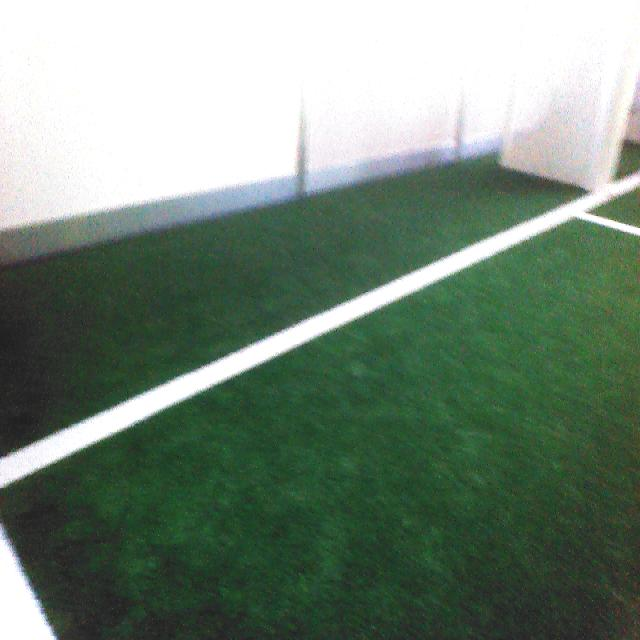goalpost: (581, 5, 639, 194)
